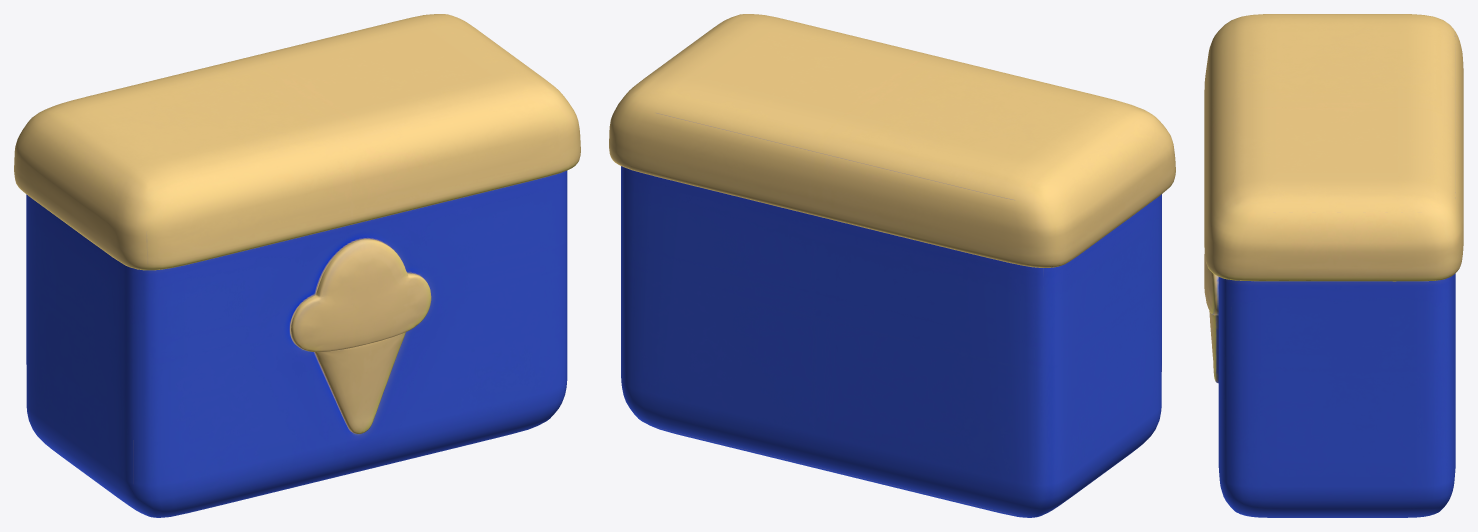
The model's file is ice-bag.glb.
The picture shows the model from 3 angles, left to right: view 1: azimuth 30°, elevation 25°; view 2: azimuth 150°, elevation 25°; view 3: azimuth 270°, elevation 25°; orthographic projection. The views are drawn at different scales.
Parts seen in each view (by area): view 1: d8bed1fe_1ff7_42e3_8b2e_156d827ed0c5; view 2: d8bed1fe_1ff7_42e3_8b2e_156d827ed0c5; view 3: d8bed1fe_1ff7_42e3_8b2e_156d827ed0c5.
Boxes of the visible parts, <box> form: d8bed1fe_1ff7_42e3_8b2e_156d827ed0c5: <box>14,14,580,517</box>; d8bed1fe_1ff7_42e3_8b2e_156d827ed0c5: <box>609,14,1175,517</box>; d8bed1fe_1ff7_42e3_8b2e_156d827ed0c5: <box>1204,14,1463,517</box>.
Size of the model in its own units: 0.9995 by 0.729 by 0.5181.
Materials: 1 (1 with a texture image).
